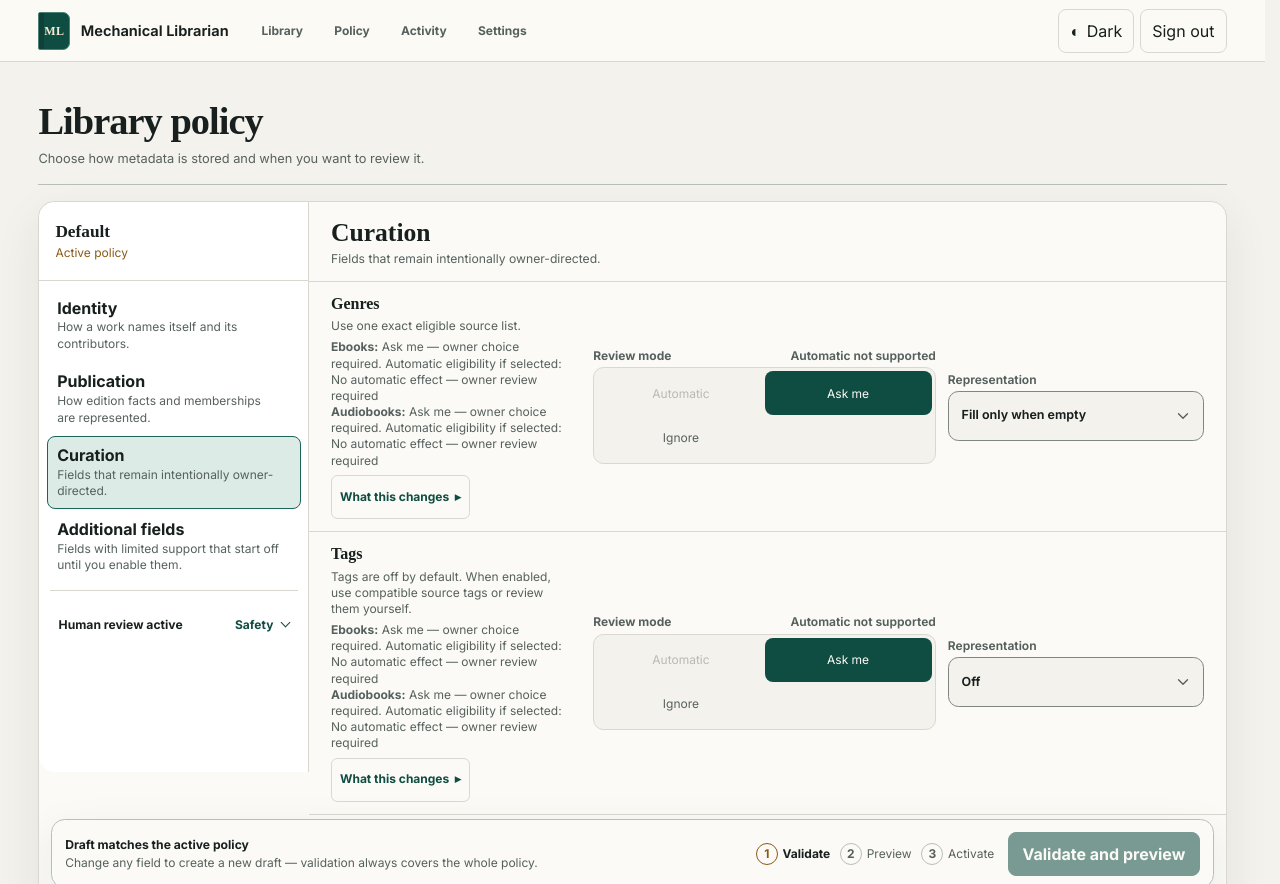
Test: Policy route › returns every draft signal to Draft matches active policy after an exact revert
Expected: the text "Changed fields" is not shown
Click the 2nd button "Ignore" at [681, 704], box x1=597 y1=682 x2=764 y2=726
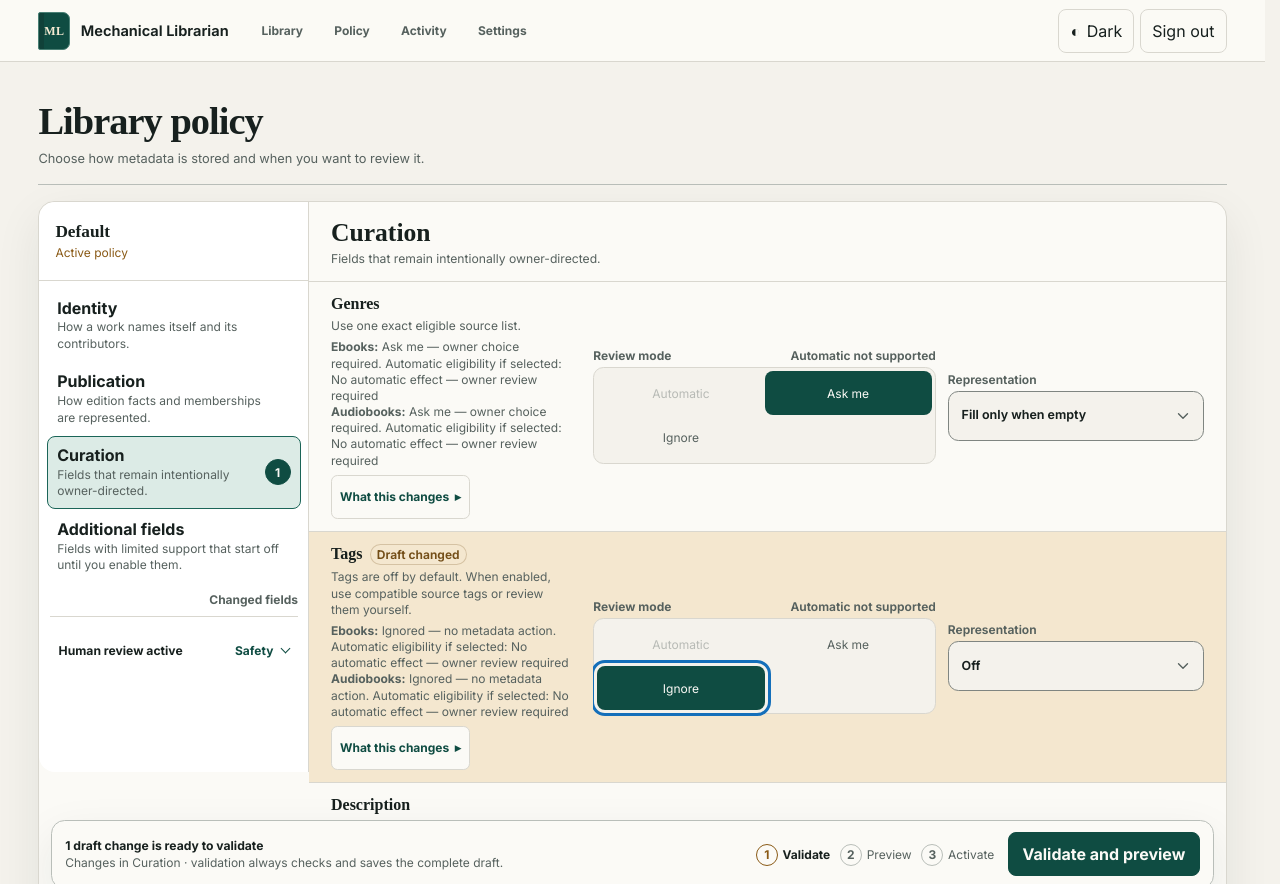
Expected: the text with class "cm-change-count" reads "1", x1=275 y1=465 x2=280 y2=480
Expected: the text "Changed fields" is shown, x1=209 y1=592 x2=298 y2=607
Expected: the button "Validate and preview" is enabled, x1=1008 y1=832 x2=1200 y2=876
Click the 2nd button "Ask me" at [848, 644], box x1=764 y1=622 x2=932 y2=666
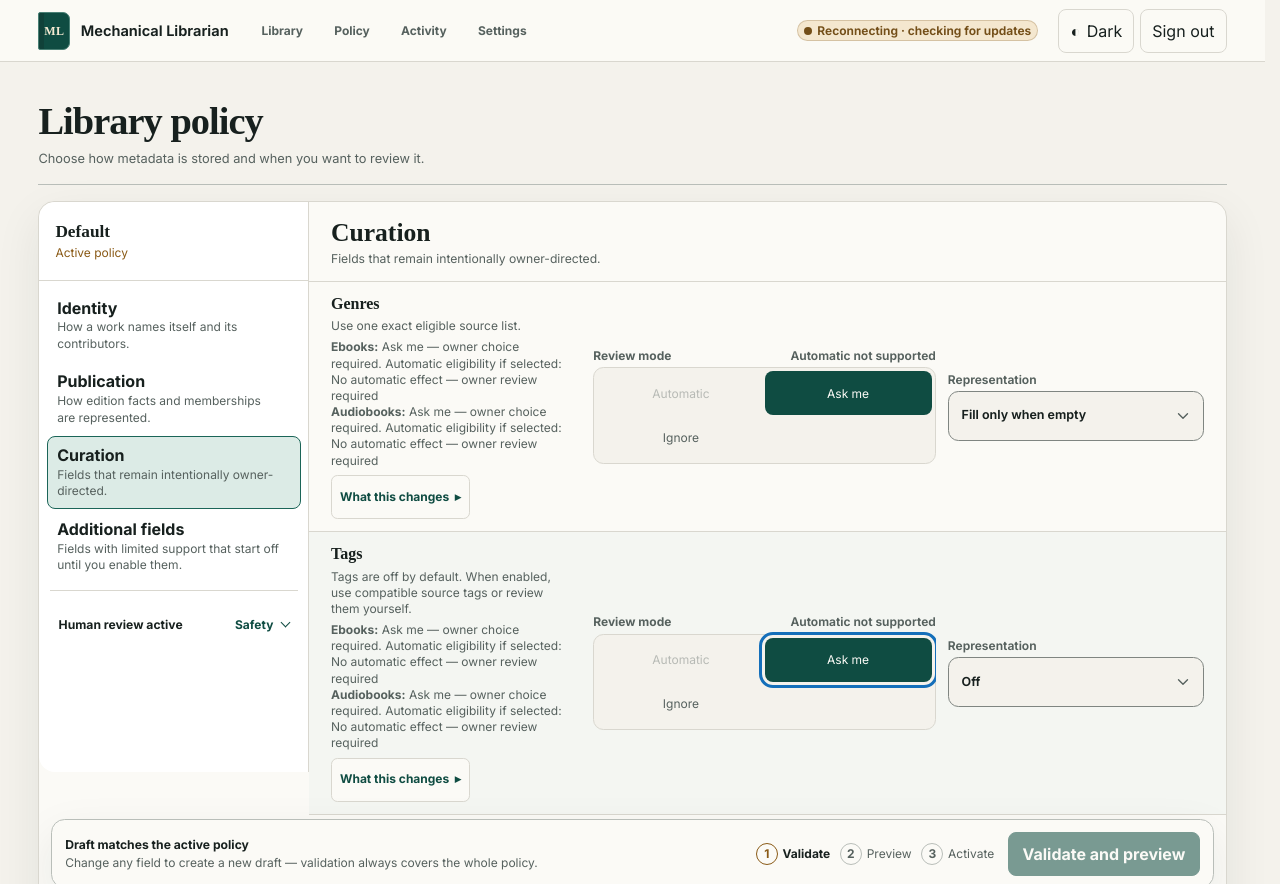
Expected: the text with class "cm-change-count" is gone
Expected: the text "Changed fields" is gone
Expected: the text "Draft matches the active policy" is shown, x1=65 y1=838 x2=249 y2=852
